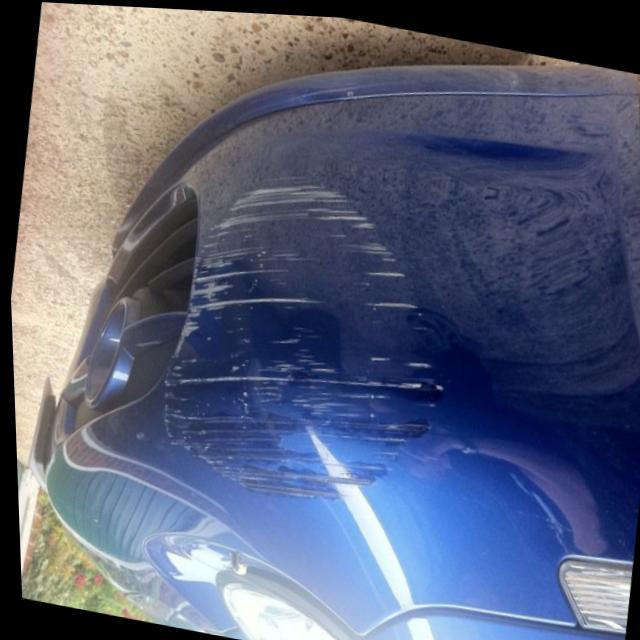Scratch: (164, 173, 437, 499)
